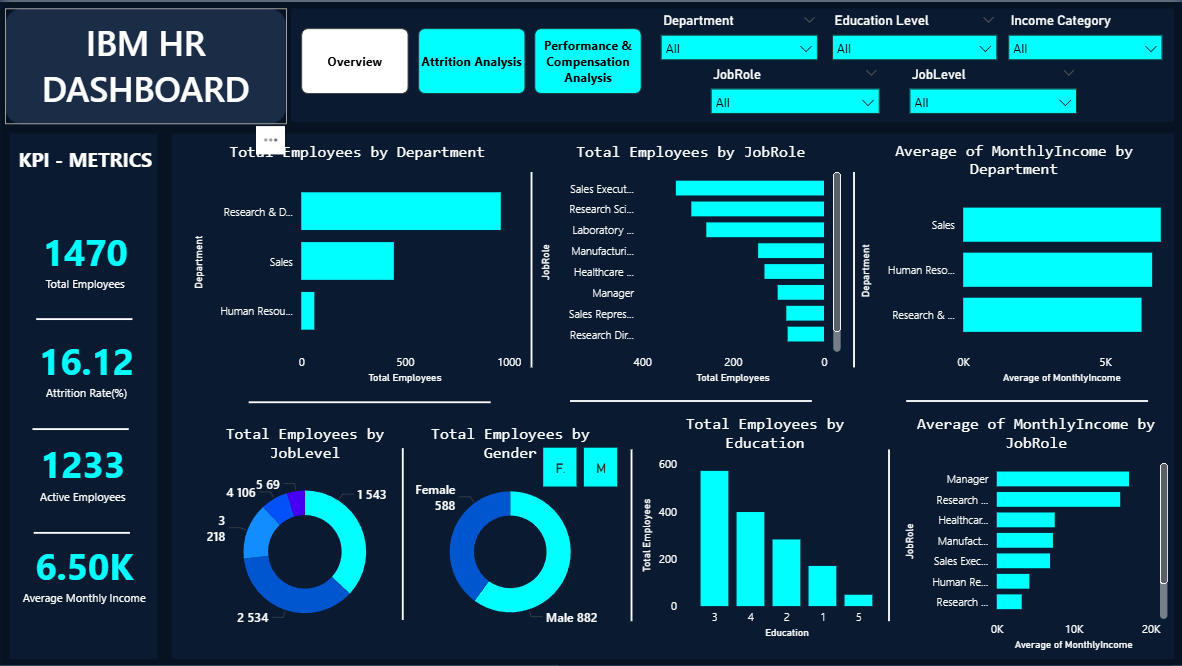

The dashboard page shown, as its layout file describes it:
{"tool":"powerbi","page":{"name":"Overview","canvas":[1280,720],"ordinal":0},"visuals":[{"type":"card","fields":{"Values":["All.TotalEmp"]},"box":[20,219.4,144.3,117.1],"z":0},{"type":"card","fields":{"Values":["All.AttritionRate"]},"box":[11.4,336.5,165.7,117.1],"z":1000},{"type":"card","fields":{"Values":["All.ActiveEmployees"]},"box":[18.6,436.5,141.4,141.4],"z":2000},{"type":"card","fields":{"Values":["All.AvgMonthlyIncome"]},"box":[14.3,542.2,152.9,150],"z":3000},{"type":"clusteredBarChart","fields":{"Category":["WA_Fn-UseC_-HR-Employee-Attrition.Department"],"Y":["All.TotalEmp"]},"box":[204.3,151.4,364.3,265.7],"z":4000},{"type":"clusteredBarChart","fields":{"Category":["WA_Fn-UseC_-HR-Employee-Attrition.JobRole"],"Y":["All.TotalEmp"]},"box":[580,151.4,334.3,265.7],"z":5000},{"type":"clusteredColumnChart","fields":{"Category":["WA_Fn-UseC_-HR-Employee-Attrition.Education"],"Y":["All.TotalEmp"]},"box":[688.6,445.7,275.7,247.1],"z":6000},{"type":"donutChart","fields":{"Category":["WA_Fn-UseC_-HR-Employee-Attrition.Gender"],"Y":["All.TotalEmp"]},"box":[431.4,457.1,241.4,235.7],"z":7000},{"type":"donutChart","fields":{"Category":["WA_Fn-UseC_-HR-Employee-Attrition.JobLevel"],"Y":["All.TotalEmp"]},"box":[204.3,457.1,251.4,235.7],"z":8000},{"type":"clusteredBarChart","fields":{"Y":["Avg(HR_Data.MonthlyIncome)"],"Category":["HR_Data.JobRole"]},"box":[972.9,445.7,294.3,260],"z":9000},{"type":"clusteredBarChart","fields":{"Category":["HR_Data.Department"],"Y":["Avg(HR_Data.MonthlyIncome)"]},"box":[925.7,150,341.4,267.1],"z":10000},{"type":"pageNavigator","box":[325.7,28.6,370,71.4],"z":11000},{"type":"textbox","box":[14.3,150,175.7,47.1],"z":12000},{"type":"slicer","fields":{"Values":["WA_Fn-UseC_-HR-Employee-Attrition.Department"]},"box":[704.3,7.1,190,88.6],"z":13000},{"type":"slicer","fields":{"Values":["WA_Fn-UseC_-HR-Employee-Attrition.JobRole"]},"box":[758.6,64.3,202.9,71.4],"z":14000},{"type":"slicer","fields":{"Values":["WA_Fn-UseC_-HR-Employee-Attrition.JobLevel"]},"box":[972.9,64.3,201.4,68.6],"z":15000},{"type":"slicer","fields":{"Values":["WA_Fn-UseC_-HR-Employee-Attrition.Education"]},"box":[888.6,7.1,198.6,64.3],"z":16000},{"type":"shape","box":[37.1,556.5,104.3,34.3],"z":17000},{"type":"shape","box":[35.7,444.3,104.3,34.3],"z":18000},{"type":"shape","box":[38.6,325.1,104.3,34.3],"z":19000},{"type":"advancedSlicerVisual","fields":{"Values":["WA_Fn-UseC_-HR-Employee-Attrition.Gender"]},"box":[582.9,477.1,91.4,52.9],"z":20000},{"type":"shape","box":[417.1,482.9,35.7,185.7],"z":21000},{"type":"shape","box":[664.3,484.3,35.7,185.7],"z":22000},{"type":"shape","box":[942.9,484.3,35.7,185.7],"z":23000},{"type":"shape","box":[557.1,184.3,35.7,211.4],"z":24000},{"type":"shape","box":[905.7,184.3,35.7,211.4],"z":25000},{"type":"shape","box":[268.6,414.3,261.4,35.7],"z":26000},{"type":"shape","box":[615.7,412.9,261.4,35.7],"z":27000},{"type":"shape","box":[980,412.9,261.4,35.7],"z":28000},{"type":"slicer","fields":{"Values":["HR_Data.Monthly_Slicer"]},"box":[1080,7.1,187.1,88.6],"z":29000},{"type":"textbox","box":[5.7,7.1,304.3,125.7],"z":30000}]}

Visuals, with their boxes in screenshot pixels (x1, y1, x2, y2), scaled from the page's 1280x720 canvas onto the 1182x666 screenshot:
card - All.TotalEmp: 18, 203, 152, 311
card - All.AttritionRate: 11, 311, 164, 420
card - All.ActiveEmployees: 17, 404, 148, 535
card - All.AvgMonthlyIncome: 13, 502, 154, 640
clusteredBarChart - WA_Fn-UseC_-HR-Employee-Attrition.Department x All.TotalEmp: 189, 140, 525, 386
clusteredBarChart - WA_Fn-UseC_-HR-Employee-Attrition.JobRole x All.TotalEmp: 536, 140, 844, 386
clusteredColumnChart - WA_Fn-UseC_-HR-Employee-Attrition.Education x All.TotalEmp: 636, 412, 890, 641
donutChart - WA_Fn-UseC_-HR-Employee-Attrition.Gender x All.TotalEmp: 398, 423, 621, 641
donutChart - WA_Fn-UseC_-HR-Employee-Attrition.JobLevel x All.TotalEmp: 189, 423, 421, 641
clusteredBarChart - Avg(HR_Data.MonthlyIncome) x HR_Data.JobRole: 898, 412, 1170, 653
clusteredBarChart - HR_Data.Department x Avg(HR_Data.MonthlyIncome): 855, 139, 1170, 386
pageNavigator: 301, 26, 642, 92
textbox: 13, 139, 175, 182
slicer - WA_Fn-UseC_-HR-Employee-Attrition.Department: 650, 7, 826, 89
slicer - WA_Fn-UseC_-HR-Employee-Attrition.JobRole: 701, 59, 888, 126
slicer - WA_Fn-UseC_-HR-Employee-Attrition.JobLevel: 898, 59, 1084, 123
slicer - WA_Fn-UseC_-HR-Employee-Attrition.Education: 821, 7, 1004, 66
shape: 34, 515, 131, 546
shape: 33, 411, 129, 443
shape: 36, 301, 132, 332
advancedSlicerVisual - WA_Fn-UseC_-HR-Employee-Attrition.Gender: 538, 441, 623, 490
shape: 385, 447, 418, 618
shape: 613, 448, 646, 620
shape: 871, 448, 904, 620
shape: 514, 170, 547, 366
shape: 836, 170, 869, 366
shape: 248, 383, 489, 416
shape: 569, 382, 810, 415
shape: 905, 382, 1146, 415
slicer - HR_Data.Monthly_Slicer: 997, 7, 1170, 89
textbox: 5, 7, 286, 123
